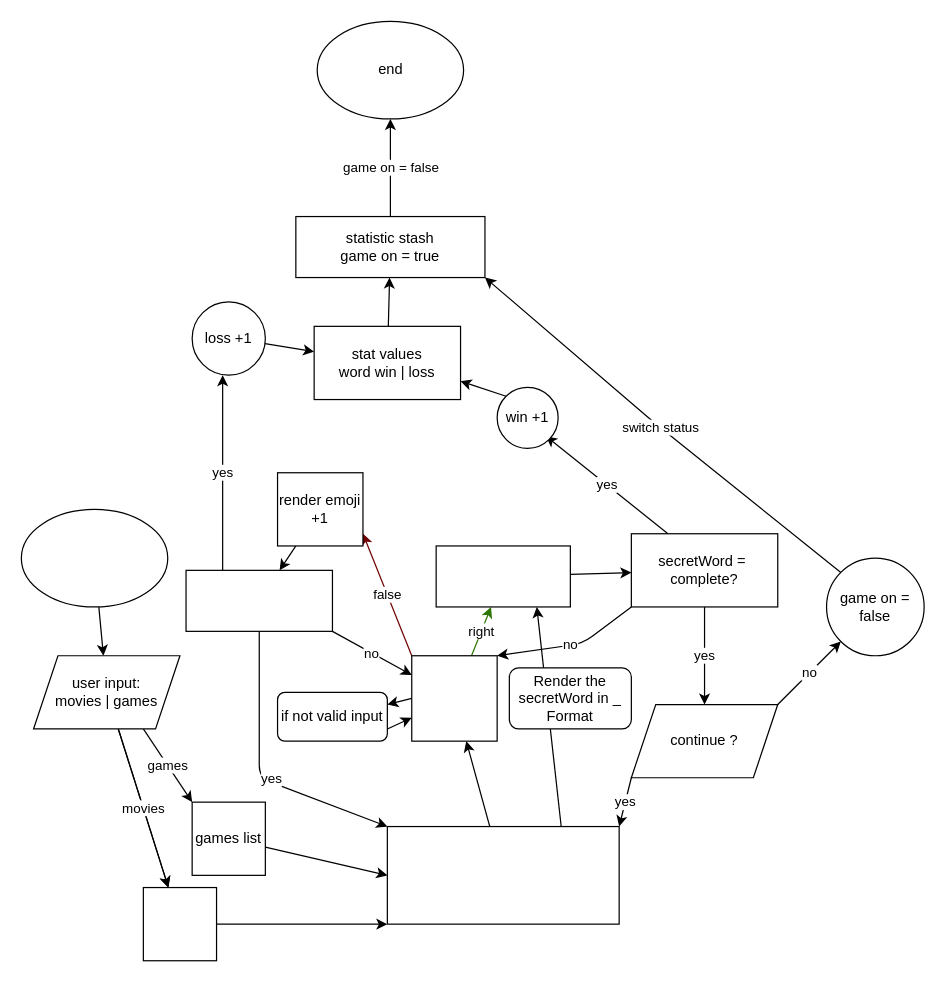
The diagram is 946 pixels wide and 982 high, and some of its shapes have lost their labels. The centre of each missing label's shape, as x and y in pixels:
"emoji = complete ?" belongs at [258,600].
"movies list" belongs at [179,923].
"render secretWord right letter input to character" belongs at [502,576].
"secretWord = chosencategorie[randomword]" belongs at [502,874].
"start: node index.js" belongs at [94,557].
"User Input: one letter or number" belongs at [454,698].
